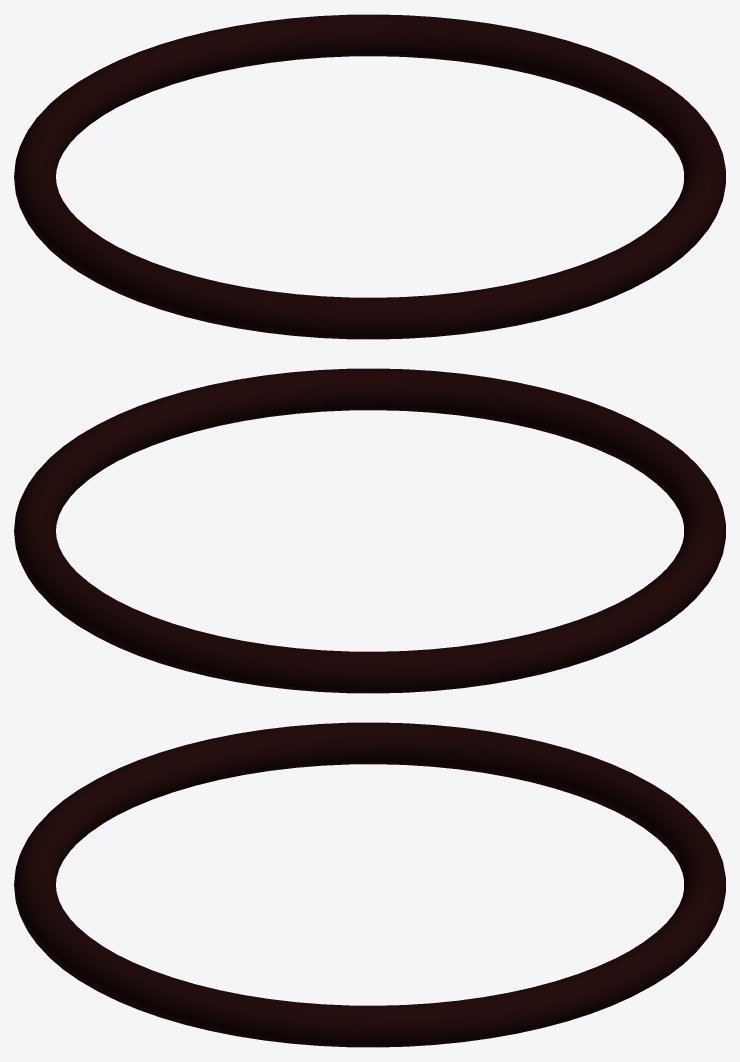
Rendered from O-Ring.glb.
3 views of the same model, one above another, from view 1: azimuth 30°, elevation 25°; view 2: azimuth 150°, elevation 25°; view 3: azimuth 270°, elevation 25° (orthographic).
Parts seen in each view (by area): view 1: O-Ring; view 2: O-Ring; view 3: O-Ring.
Boxes of the visible parts, x1=… form: O-Ring: x1=14, y1=14, x2=725, y2=339; O-Ring: x1=14, y1=368, x2=725, y2=693; O-Ring: x1=14, y1=722, x2=725, y2=1047.
Size of the model in its own units: 0.034 by 0.002 by 0.034.
